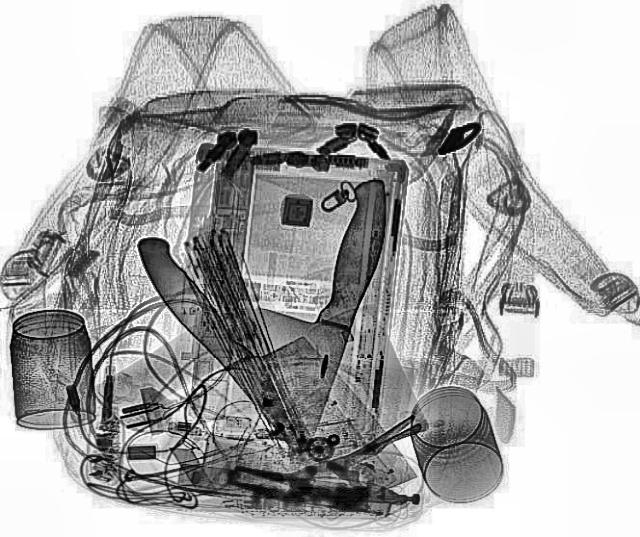Knife: (123, 206, 420, 516), (195, 163, 402, 501)
